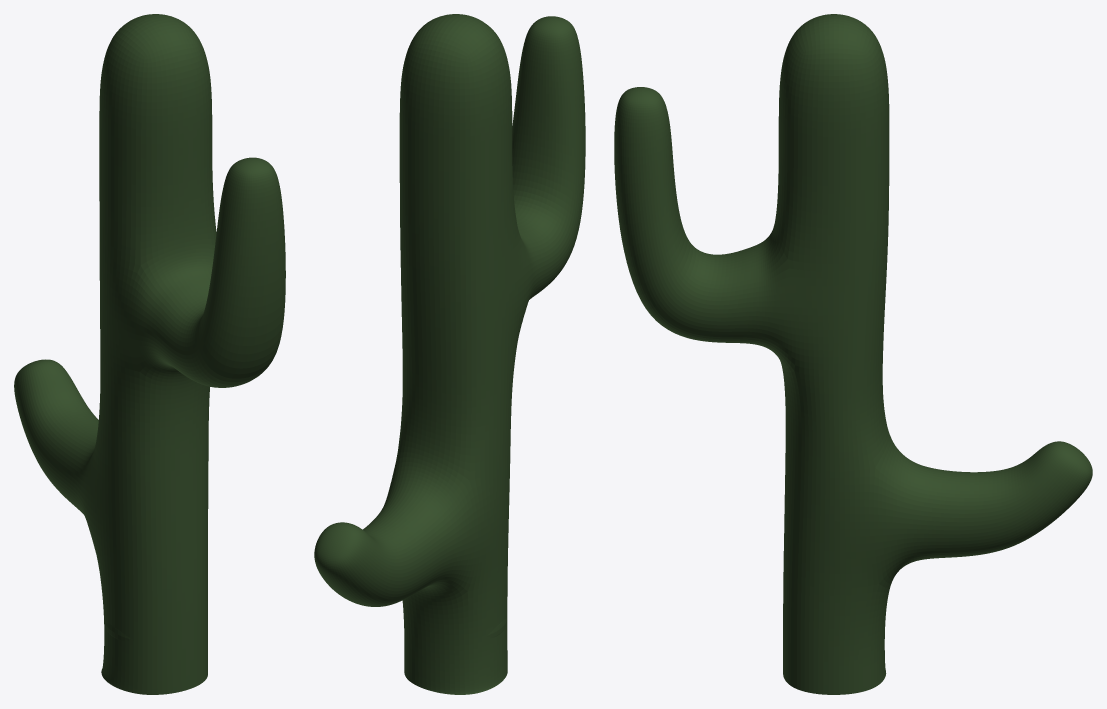
File: cacto.fbx
3 renders of one model, left to right at view 1: azimuth 30°, elevation 25°; view 2: azimuth 150°, elevation 25°; view 3: azimuth 270°, elevation 25°, orthographic.
Parts seen in each view (by area): view 1: Cube.062; view 2: Cube.062; view 3: Cube.062.
Part boxes in pixels (bbox=[...]): Cube.062: bbox=[14, 14, 285, 694]; Cube.062: bbox=[314, 14, 585, 694]; Cube.062: bbox=[614, 14, 1092, 694].
Size of the model in its own units: 56.26 by 352 by 233.
